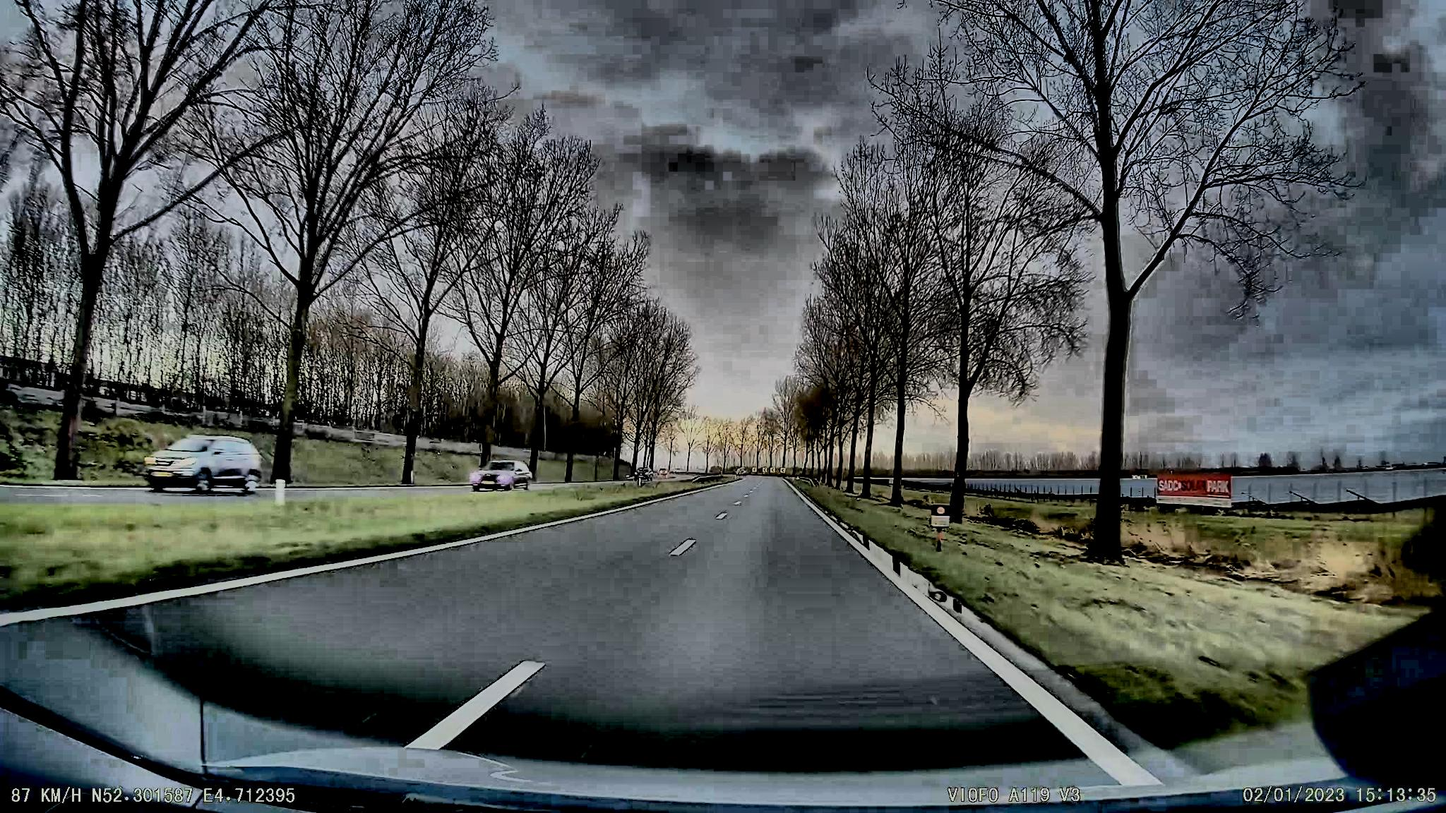Roads: (0, 477, 1117, 813)
